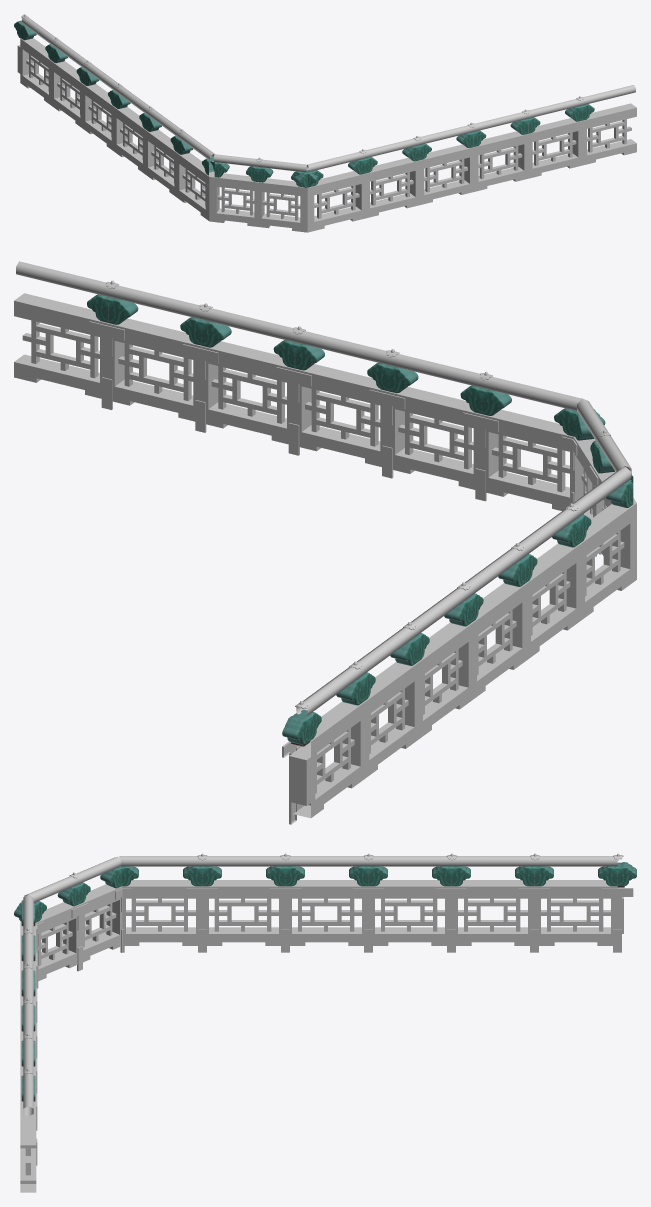
Rendered from SM_Handrail01J.fbx.
3 views of the same model, one above another, from view 1: azimuth 30°, elevation 25°; view 2: azimuth 150°, elevation 25°; view 3: azimuth 270°, elevation 25° (orthographic). The views are drawn at different scales.
Parts seen in each view (by area): view 1: SM_Handrail01J; view 2: SM_Handrail01J; view 3: SM_Handrail01J.
Part boxes in pixels (<box>): SM_Handrail01J: <box>14,14,636,232</box>; SM_Handrail01J: <box>14,261,636,824</box>; SM_Handrail01J: <box>14,853,636,1192</box>.
Bounding box in the file's own units: 237 × 246 × 41.5.
